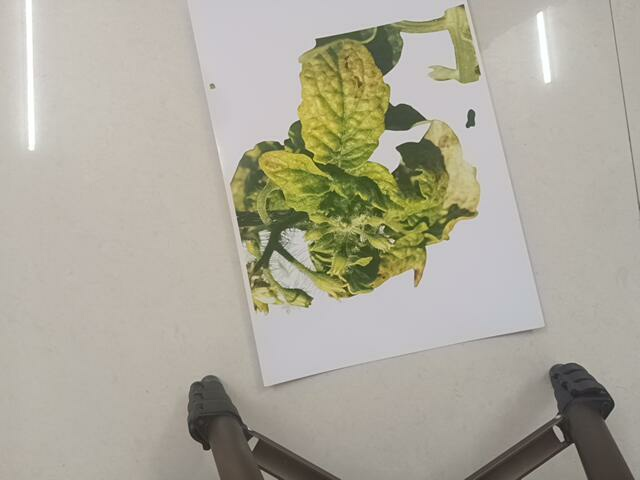Tomamto_Leaf_curl_virus: (235, 11, 521, 316)
